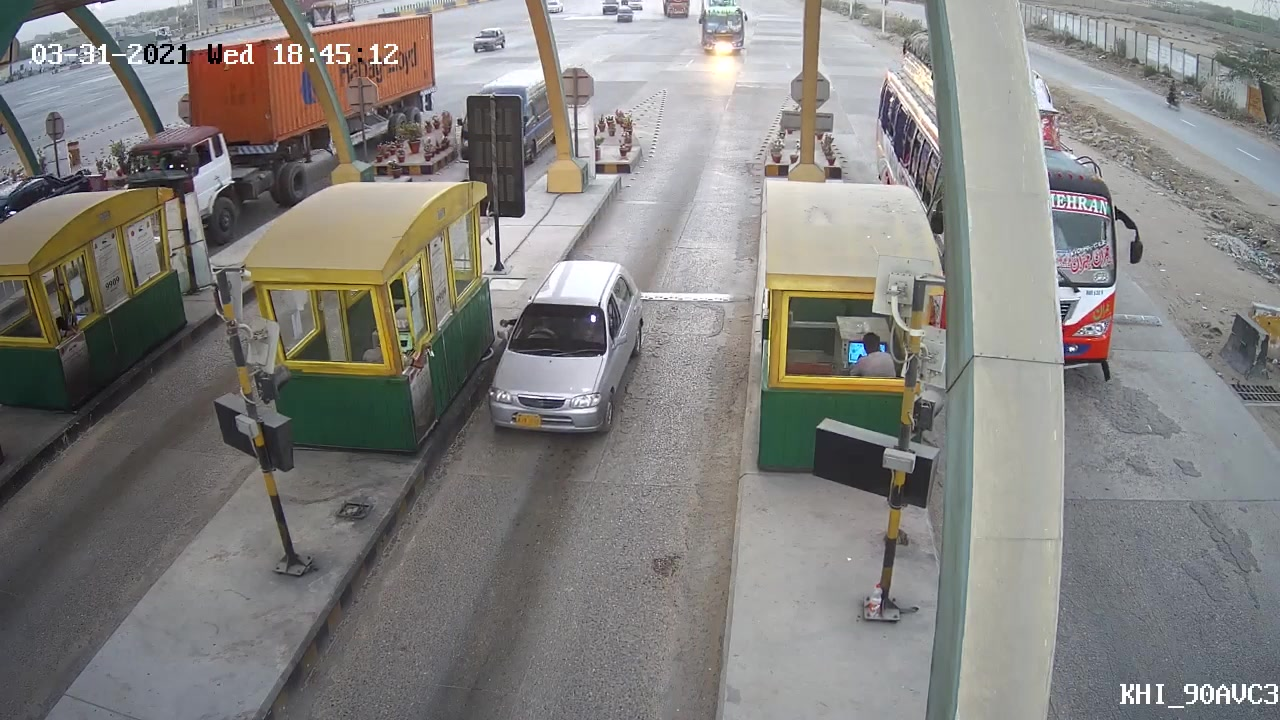F1: (485, 253, 649, 443)
